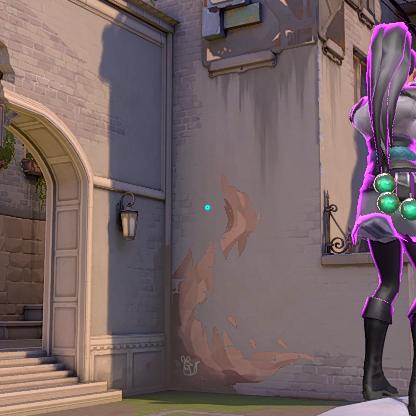enemyBody: (367, 108, 416, 191)
enemyHead: (373, 46, 415, 86)
